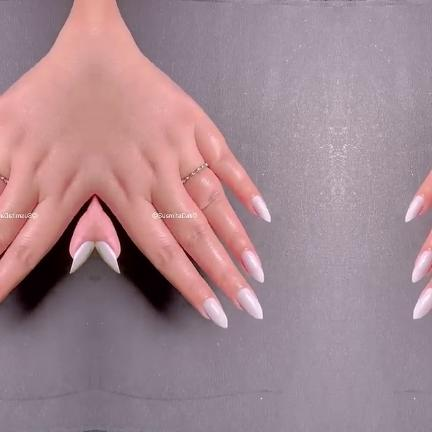Nail: (236, 288, 262, 319), (202, 298, 227, 329), (240, 250, 263, 283), (411, 250, 432, 283), (412, 288, 432, 319), (250, 195, 270, 223), (404, 195, 424, 223)
